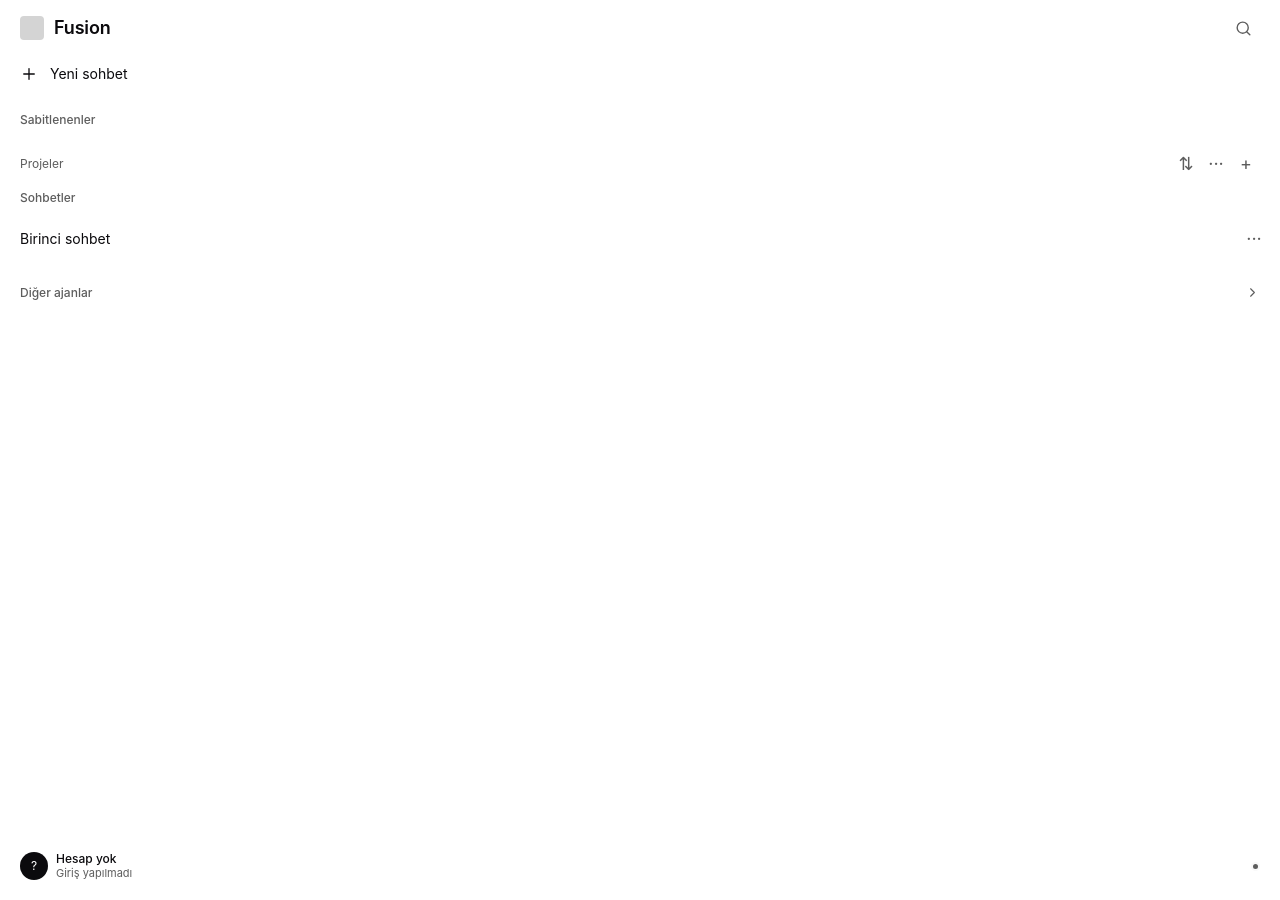
Test: Sidebar — dalga 4 P2/P3 › arama kapatılınca süzgeç temizlenir ve Esc aramayı kapatır (U1-52)
Click the button named "Konuşma ve proje aramasını aç".
click(1244, 28)  # box [1227,12,1260,44]
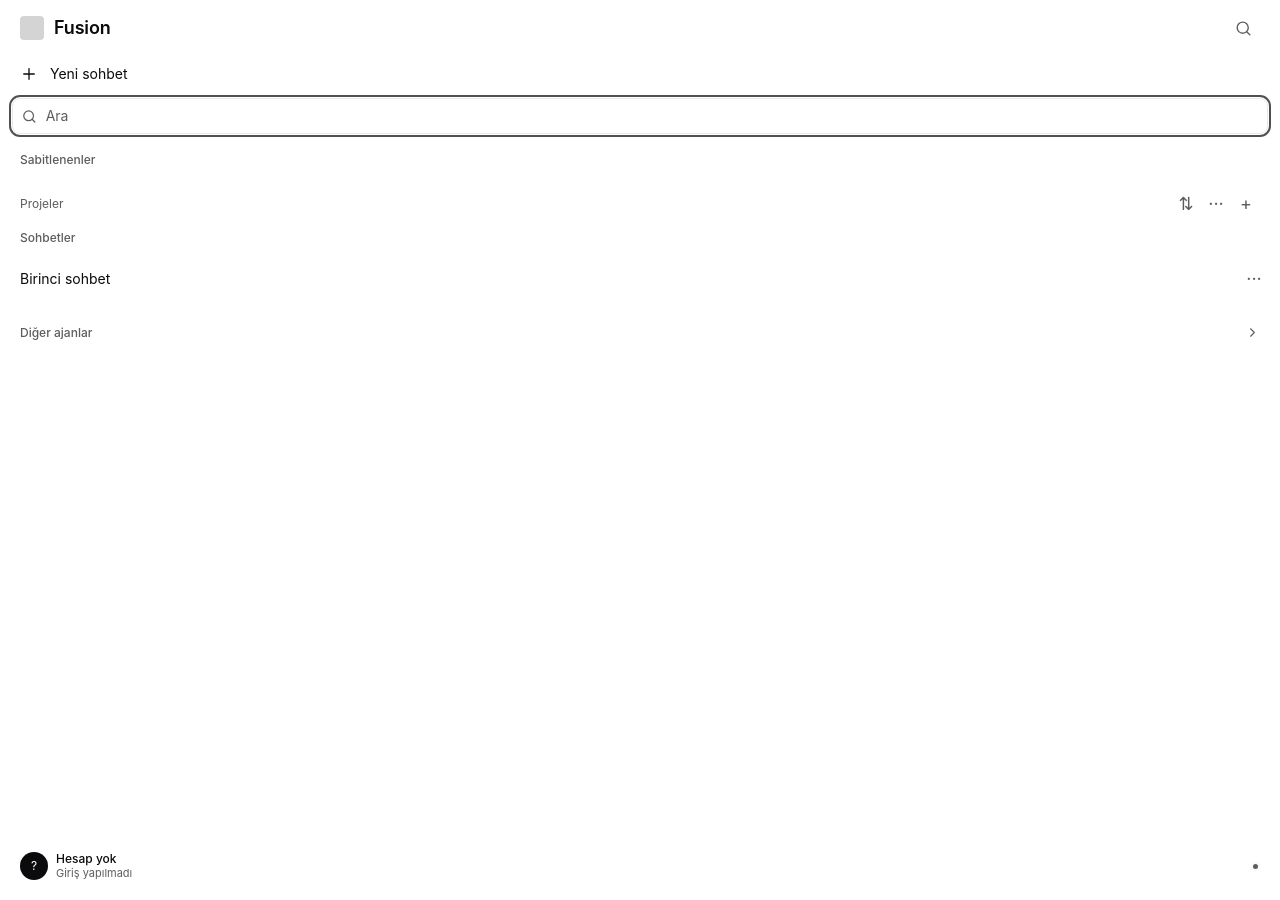
Type "yok böyle bir şey" into the search field named "Konuşma ve proje ara".
click(652, 116); type("yok böyle bir şey")  # box [46,105,1259,127]
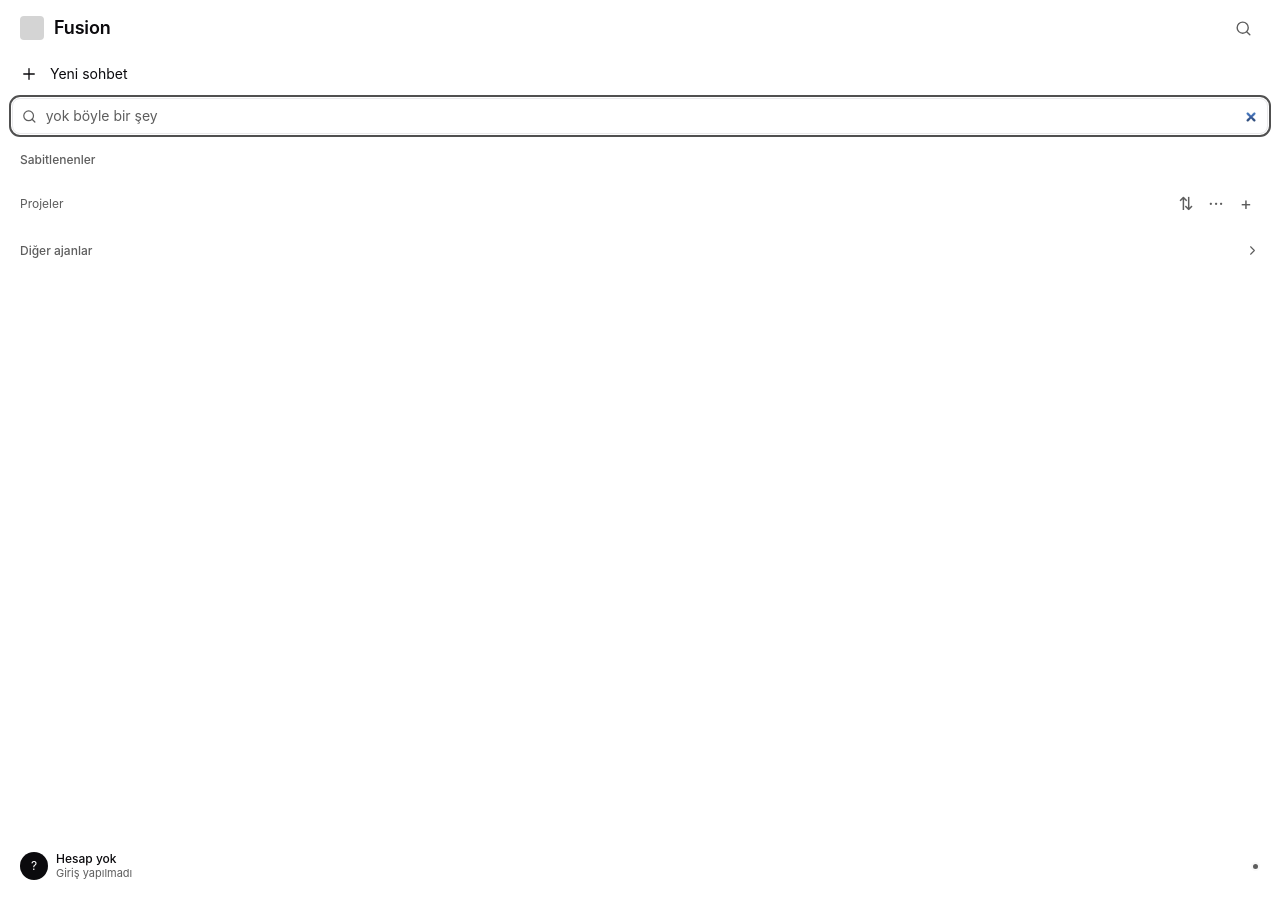
expect the button "Birinci sohbet" is gone: met
Press Escape in the search field named "Konuşma ve proje ara", box [46,105,1259,127]
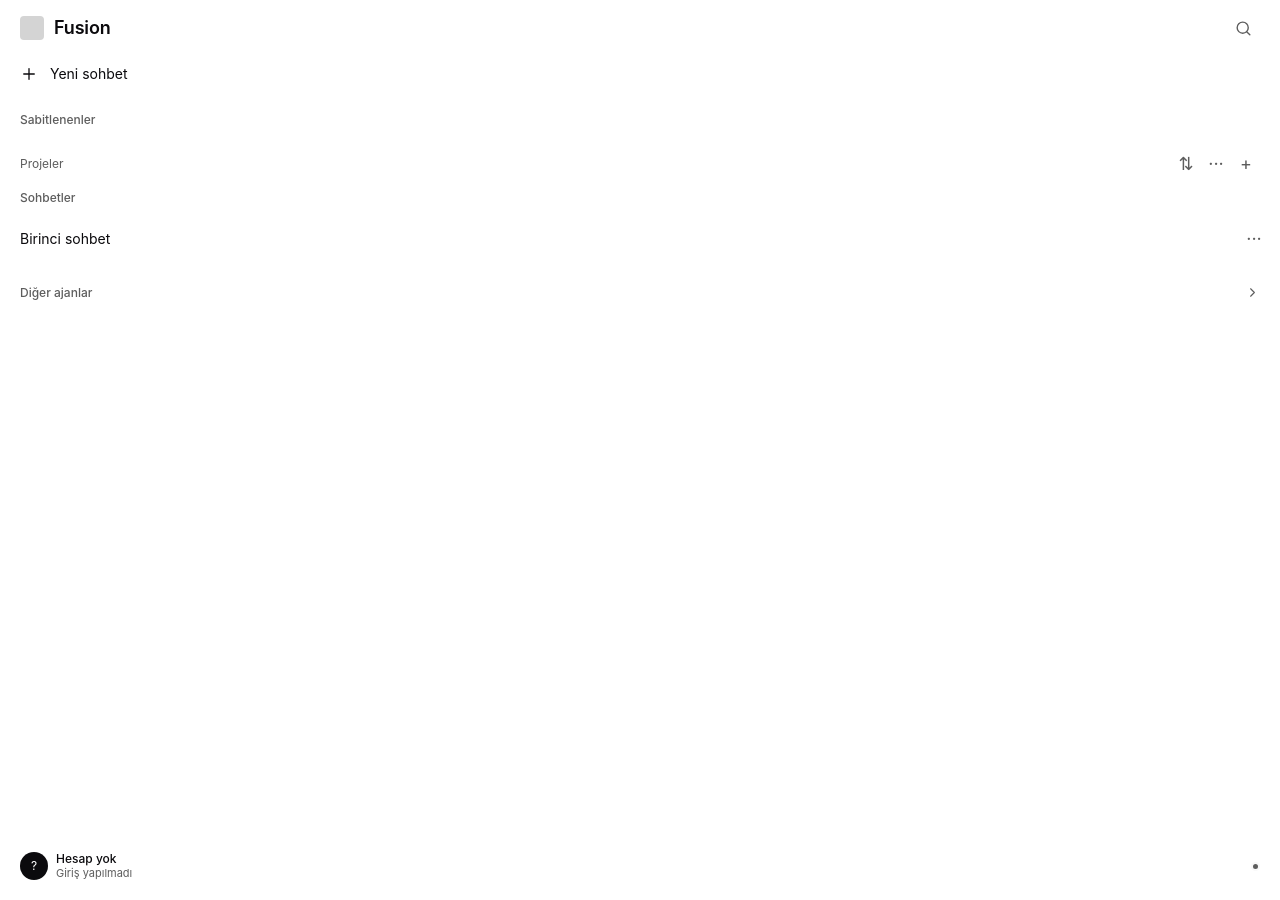
expect the text "Birinci sohbet" is shown: met, box [20,230,110,247]
